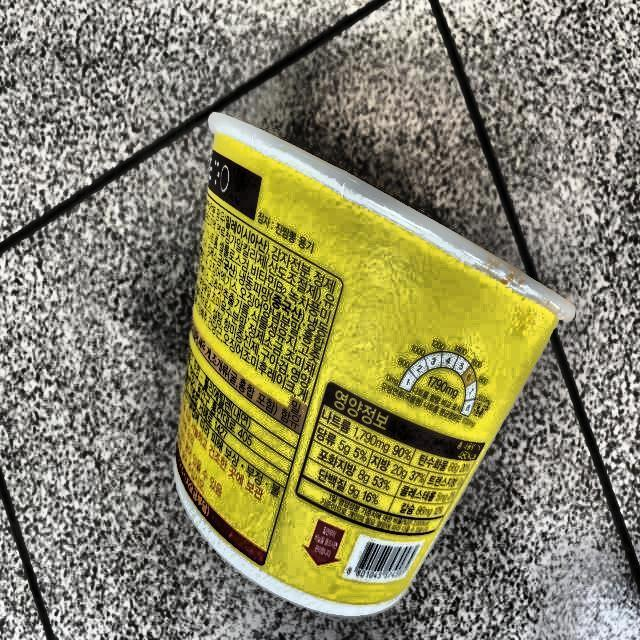cardboard: (175, 114, 573, 621)
